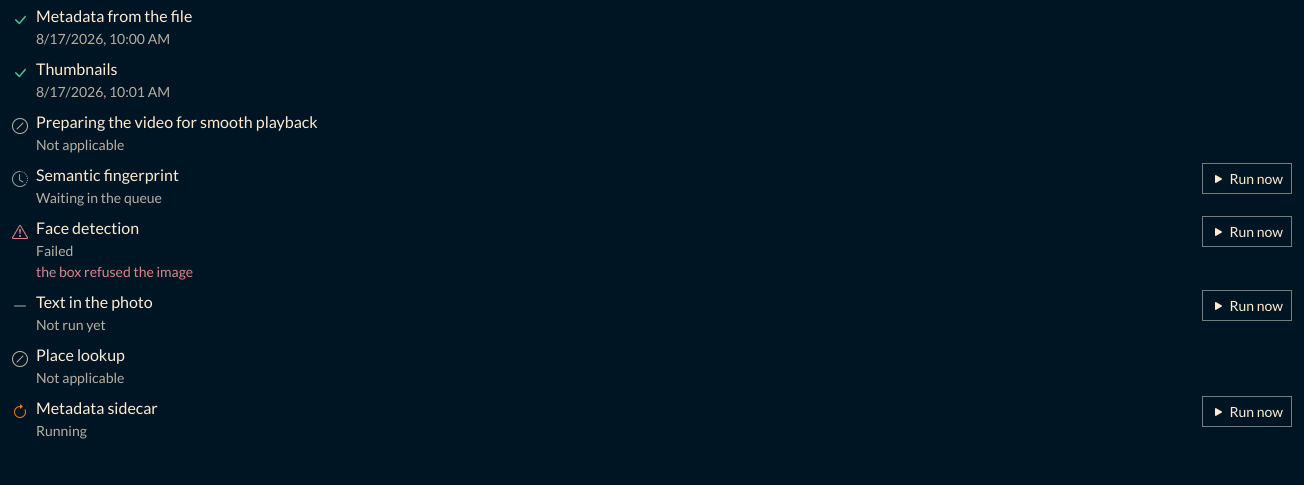
Scenario: ProcessingPanel › reports a failed request
Click the button "Run now" in the row of "Text in the photo" at (1247, 306), box [1202,290,1292,321]
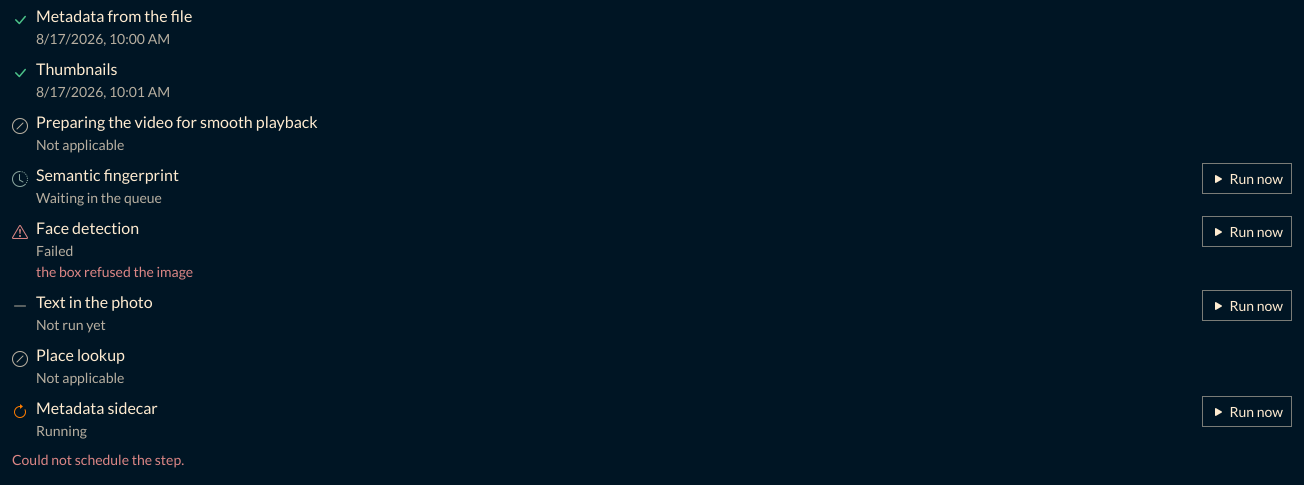
Expected: the message reads "Could not schedule the step.", [12,451,184,468]
